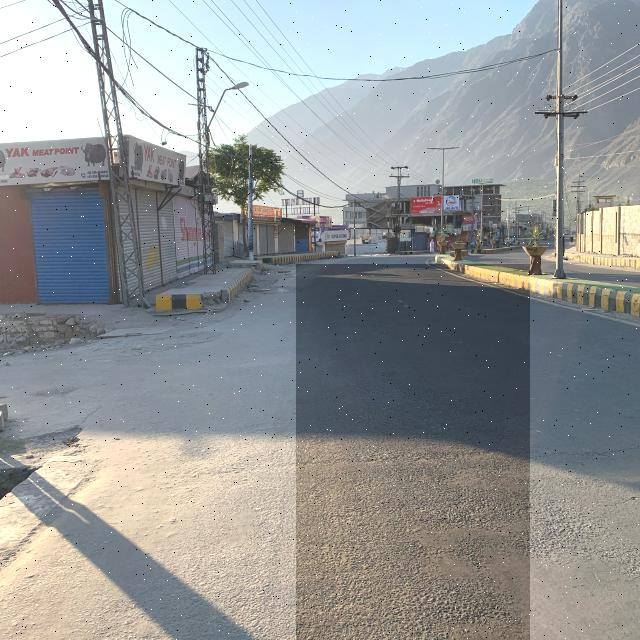left: (0, 336, 217, 433)
straight: (296, 264, 530, 640)
